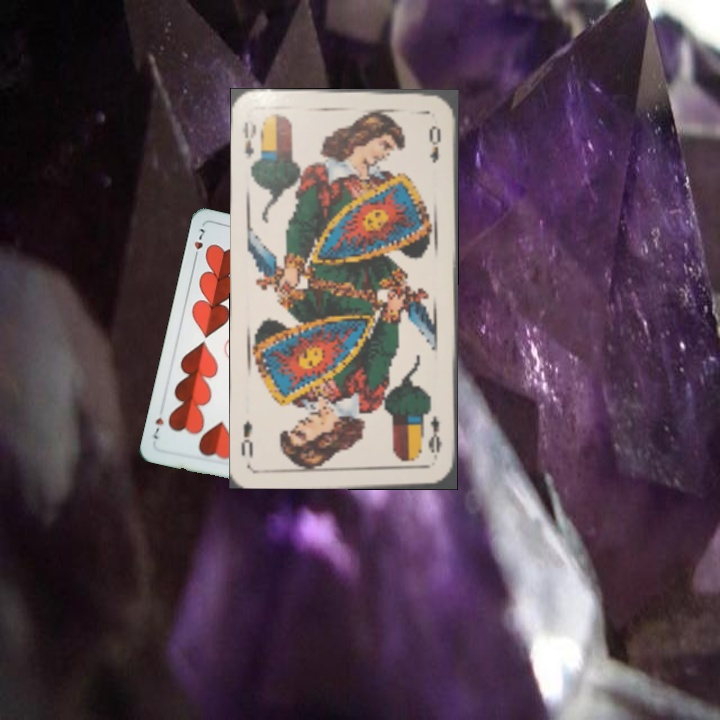EO: (424, 412, 445, 463), (238, 118, 259, 161)
H7: (190, 224, 208, 263)
